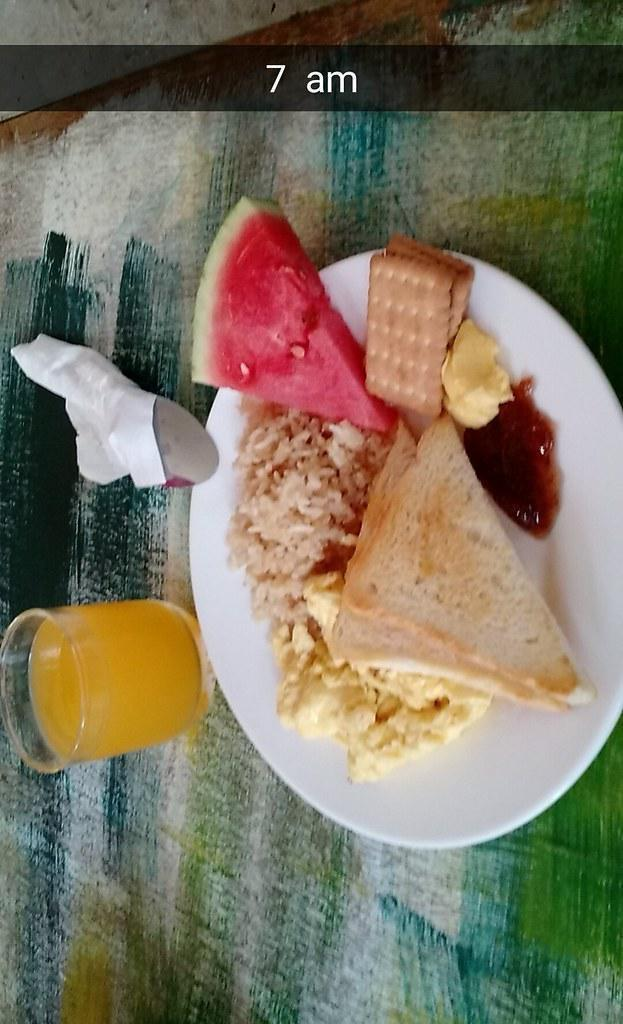glass-normal: (0, 596, 204, 773)
